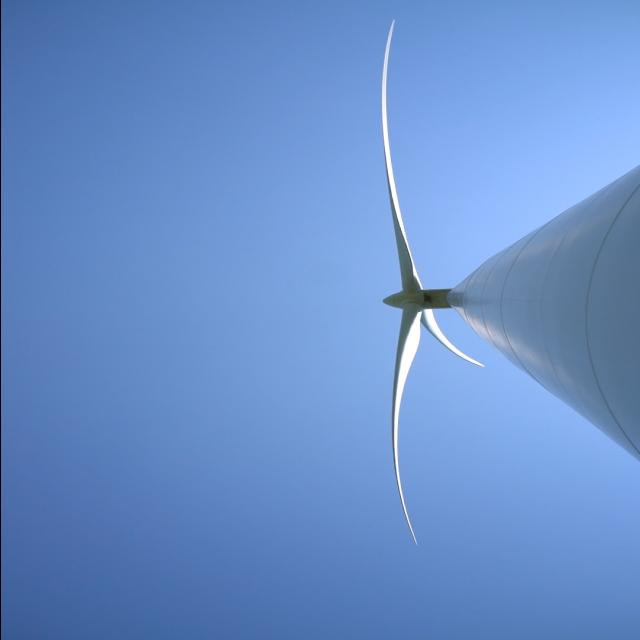blade 1: (434, 340, 482, 376)
blade 2: (358, 14, 432, 268)
blade 3: (378, 334, 424, 563)
